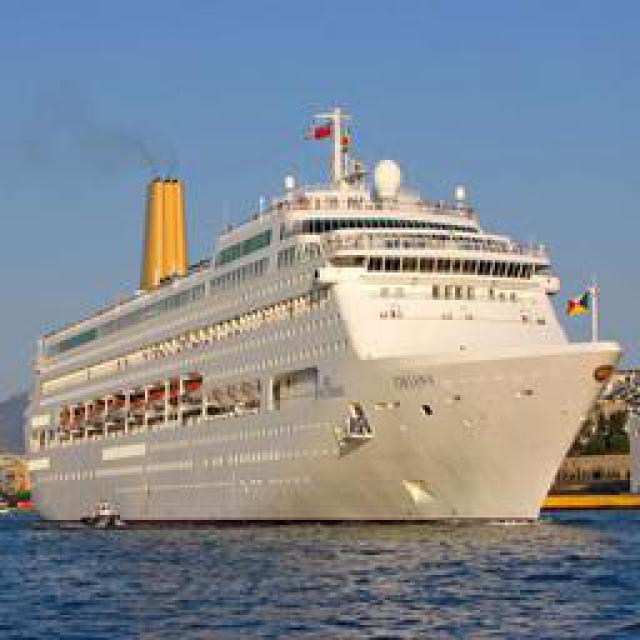Ship: (24, 102, 619, 532)
